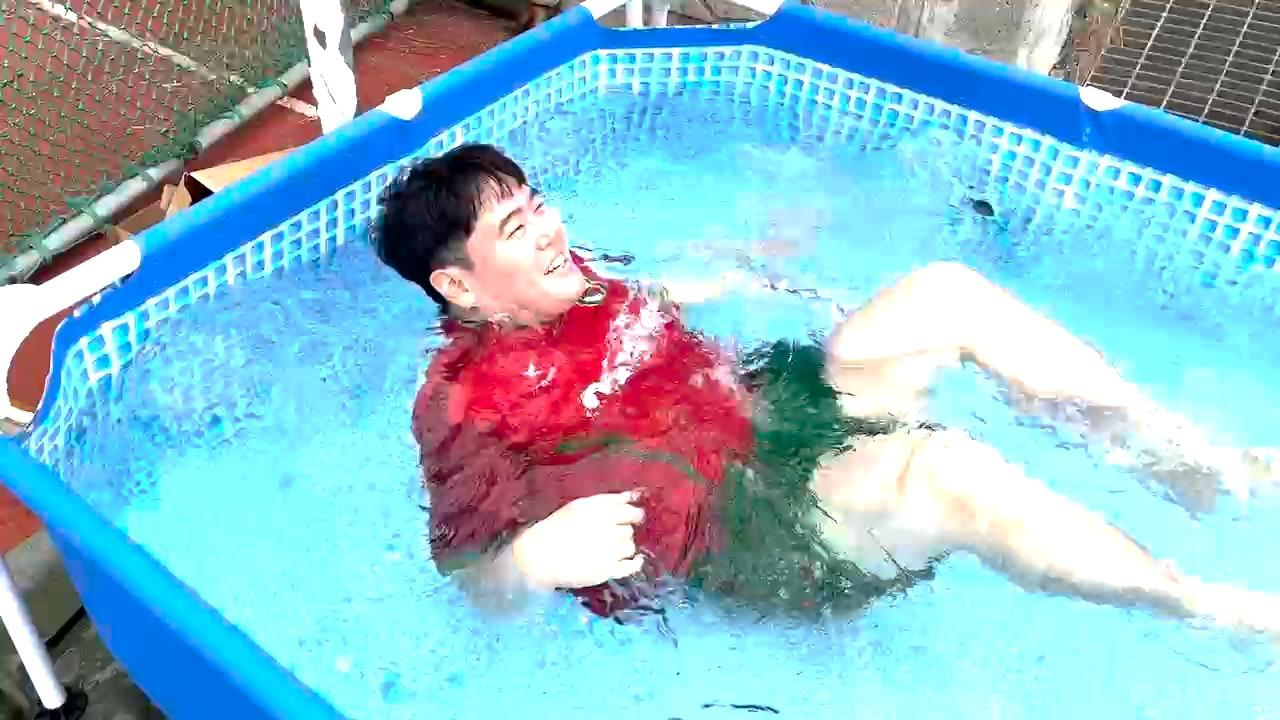Drowning: (306, 77, 1280, 684)
